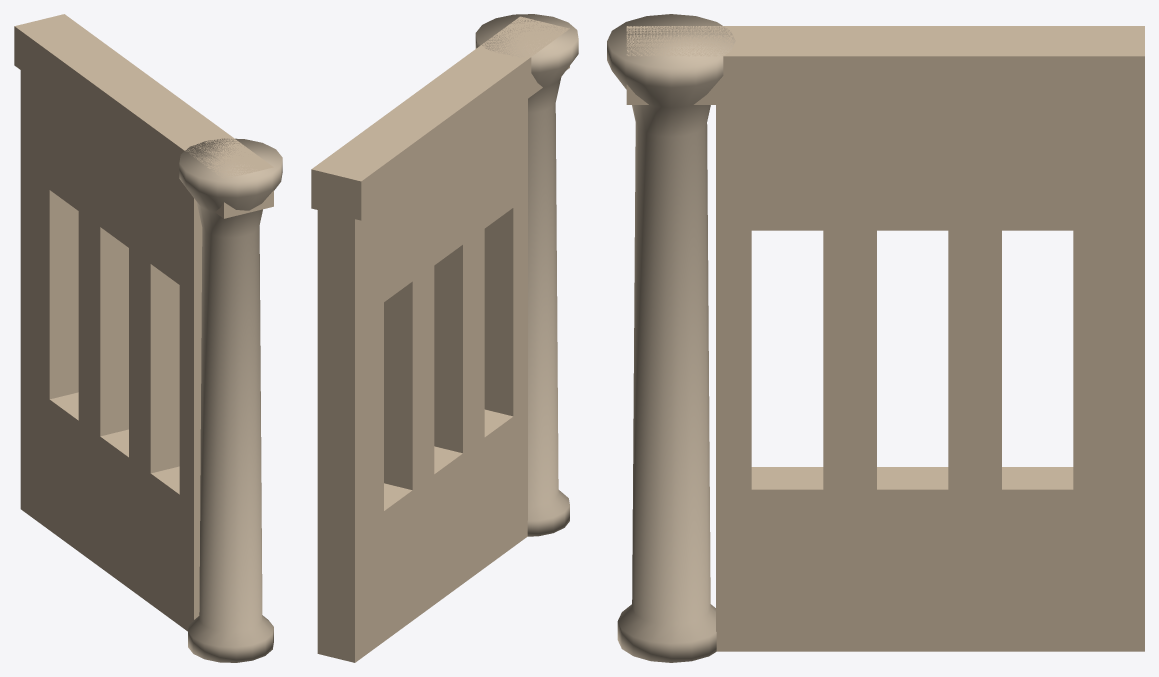
Rendered from city_walk_end.glb.
The picture shows the model from 3 angles, left to right: view 1: azimuth 30°, elevation 25°; view 2: azimuth 150°, elevation 25°; view 3: azimuth 270°, elevation 25°; orthographic projection. The views are drawn at different scales.
Parts seen in each view (by area): view 1: CityWalkEnd_Screen, CityWalkEnd_Column, CityWalkEnd_Beam; view 2: CityWalkEnd_Screen, CityWalkEnd_Beam, CityWalkEnd_Column; view 3: CityWalkEnd_Screen, CityWalkEnd_Column, CityWalkEnd_Beam.
Part boxes in pixels (<box>): CityWalkEnd_Screen: <box>20,70,202,631</box>; CityWalkEnd_Column: <box>179,138,282,662</box>; CityWalkEnd_Beam: <box>14,14,273,218</box>; CityWalkEnd_Screen: <box>317,99,527,662</box>; CityWalkEnd_Beam: <box>311,16,569,220</box>; CityWalkEnd_Column: <box>475,14,578,536</box>; CityWalkEnd_Screen: <box>716,105,1144,651</box>; CityWalkEnd_Column: <box>607,14,735,662</box>; CityWalkEnd_Beam: <box>626,26,1144,104</box>.
Bounding box in the file's own units: 0.72 × 3.7 × 3.01.
